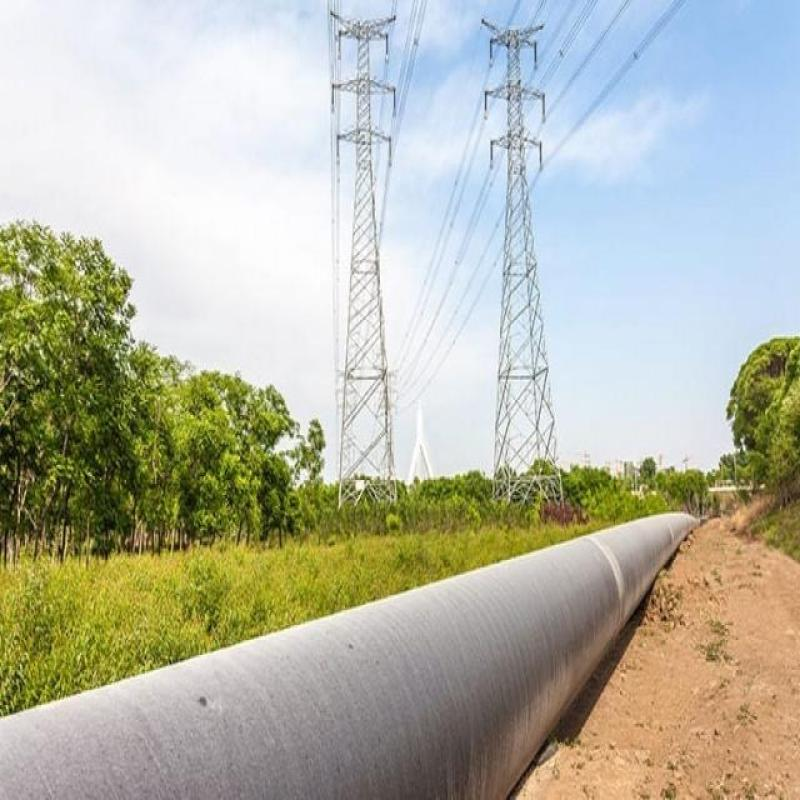Healthy: (1, 453, 766, 798)
